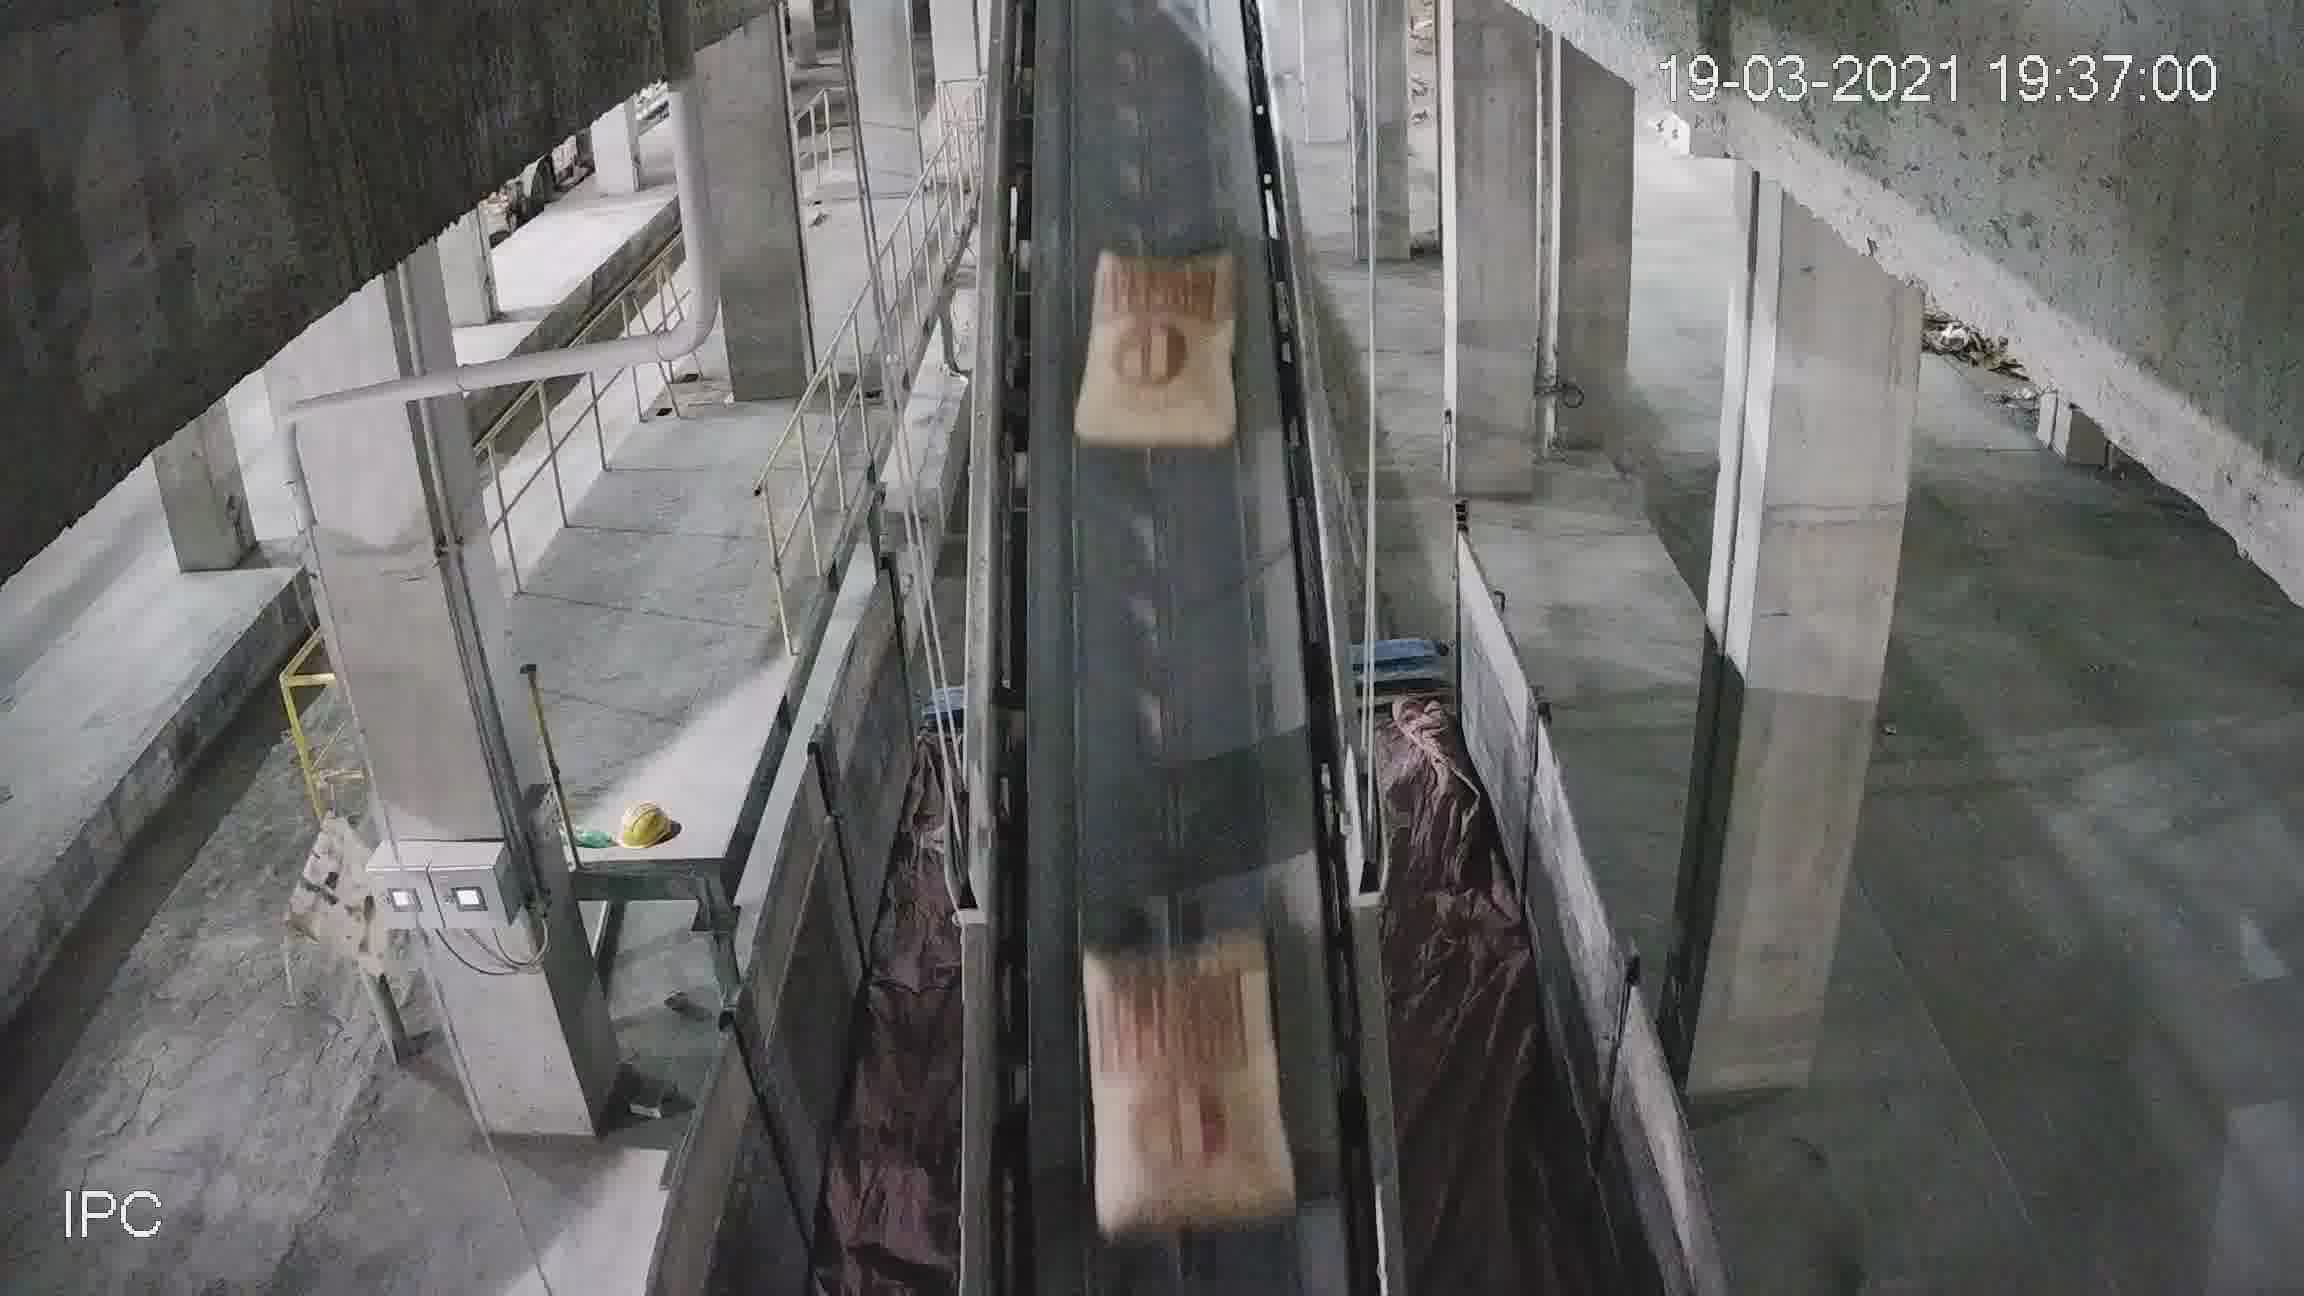bag: (1087, 935, 1283, 1160), (1086, 252, 1241, 456)
belt: (956, 43, 1370, 1073)
